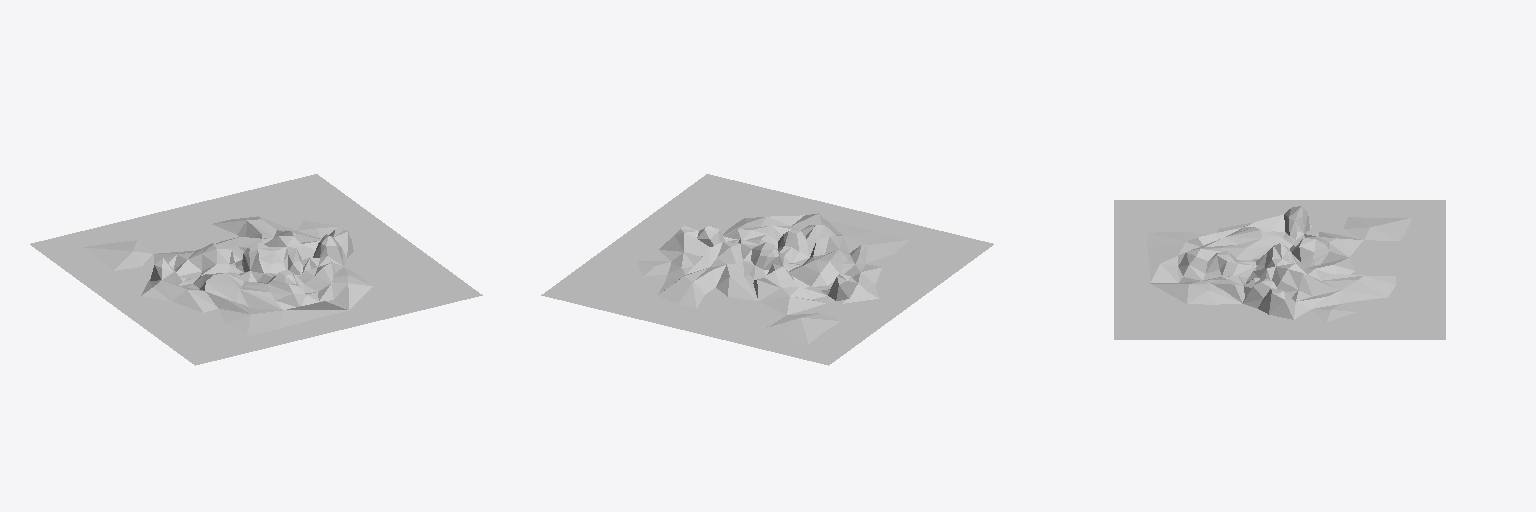
The model's file is Resources.obj.
The picture shows the model from 3 angles: view 1: azimuth 30°, elevation 25°; view 2: azimuth 150°, elevation 25°; view 3: azimuth 270°, elevation 25°; orthographic projection.
Parts seen in each view (by area): view 1: Retopo_Plane.002_mesh.004; view 2: Retopo_Plane.002_mesh.004; view 3: Retopo_Plane.002_mesh.004.
Part boxes in pixels (left/top/right/bottom): Retopo_Plane.002_mesh.004: left=30, top=174, right=482, bottom=365; Retopo_Plane.002_mesh.004: left=541, top=174, right=993, bottom=365; Retopo_Plane.002_mesh.004: left=1114, top=200, right=1445, bottom=339.
Bounding box in the file's own units: 20.47 × 1.87 × 20.47.